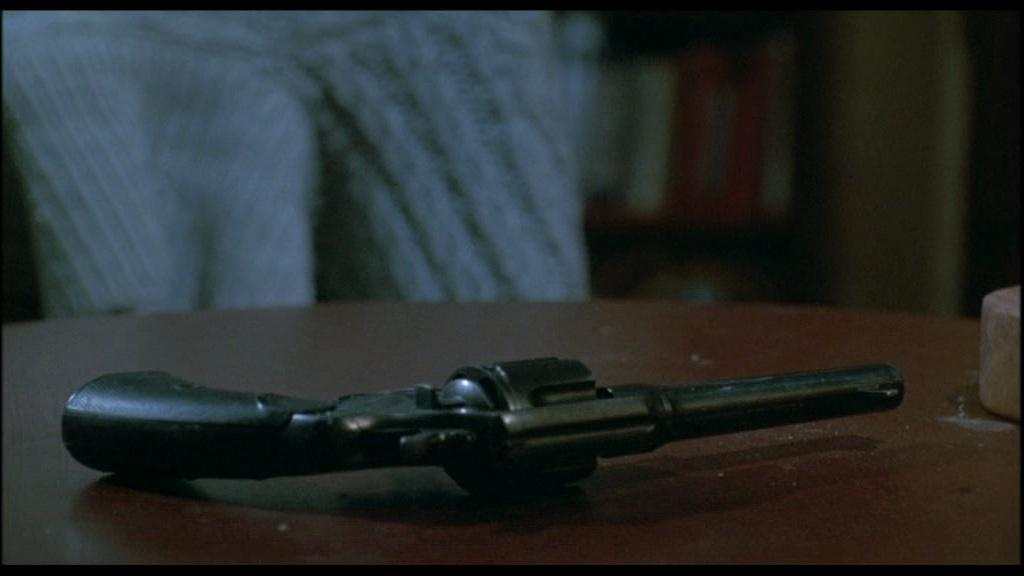gun: (64, 346, 957, 528)
